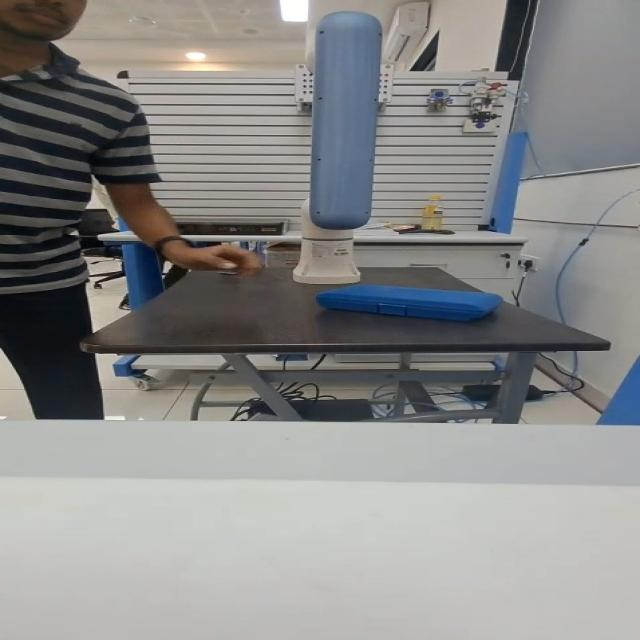top-surface: (339, 289, 482, 302)
